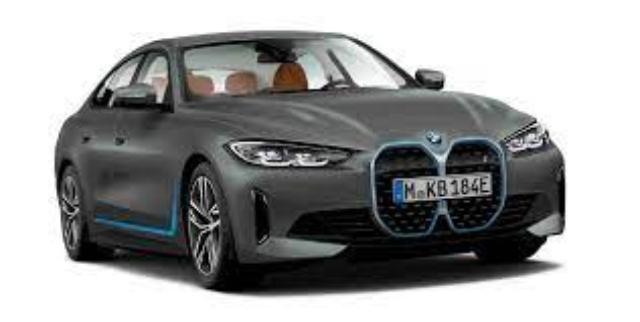bmw: (54, 30, 566, 290)
